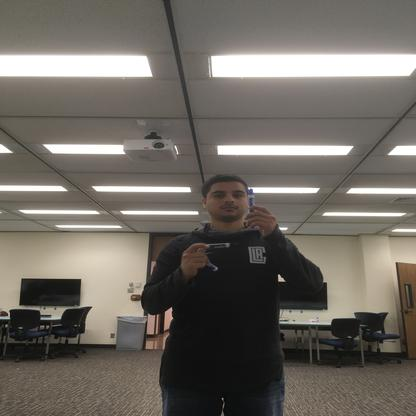expo_marker: (200, 238, 239, 256), (244, 186, 259, 211), (205, 257, 221, 274)
